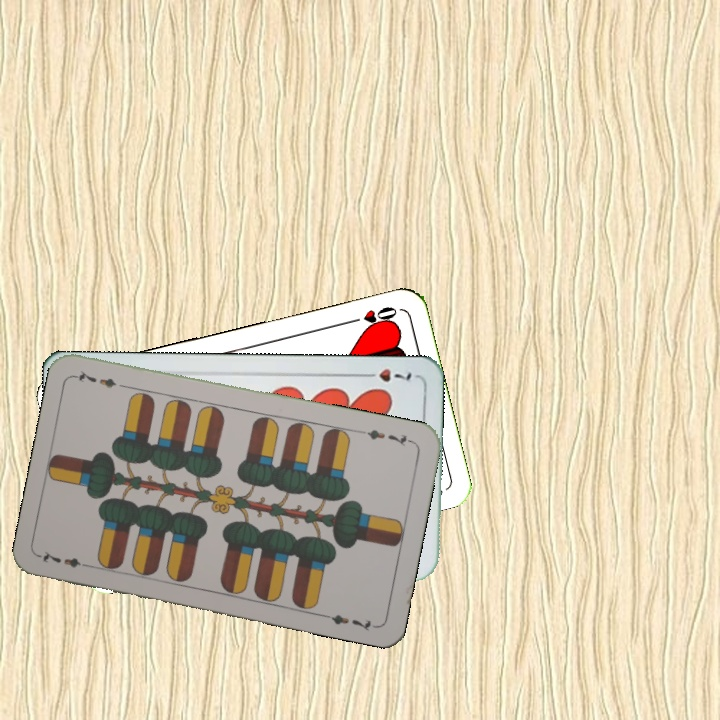E7: (36, 547, 95, 571), (358, 425, 416, 449)
H7: (358, 365, 414, 385)
HO: (342, 302, 400, 328)
